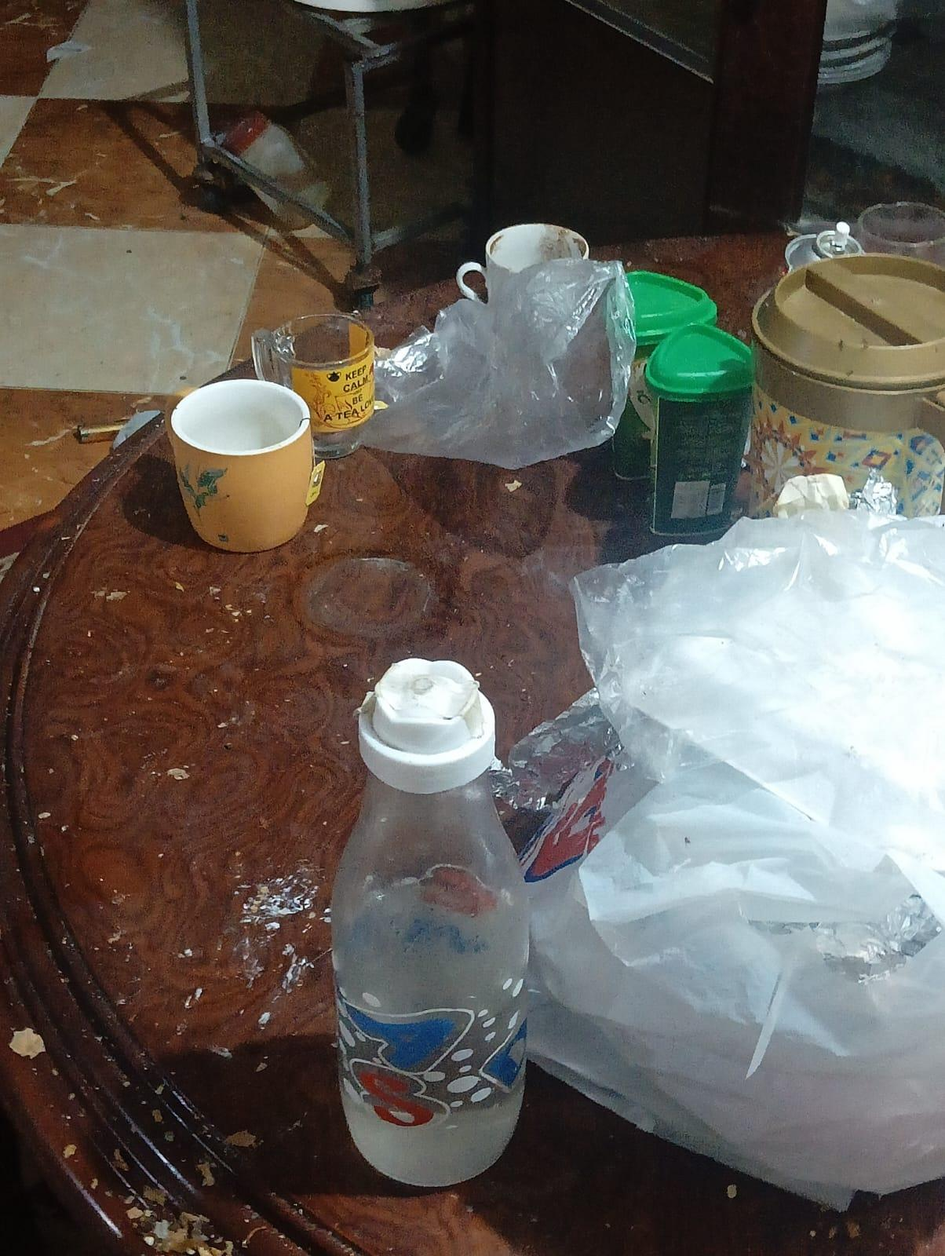cup: (170, 379, 316, 552), (252, 313, 374, 458), (456, 223, 586, 300), (856, 202, 944, 265)
